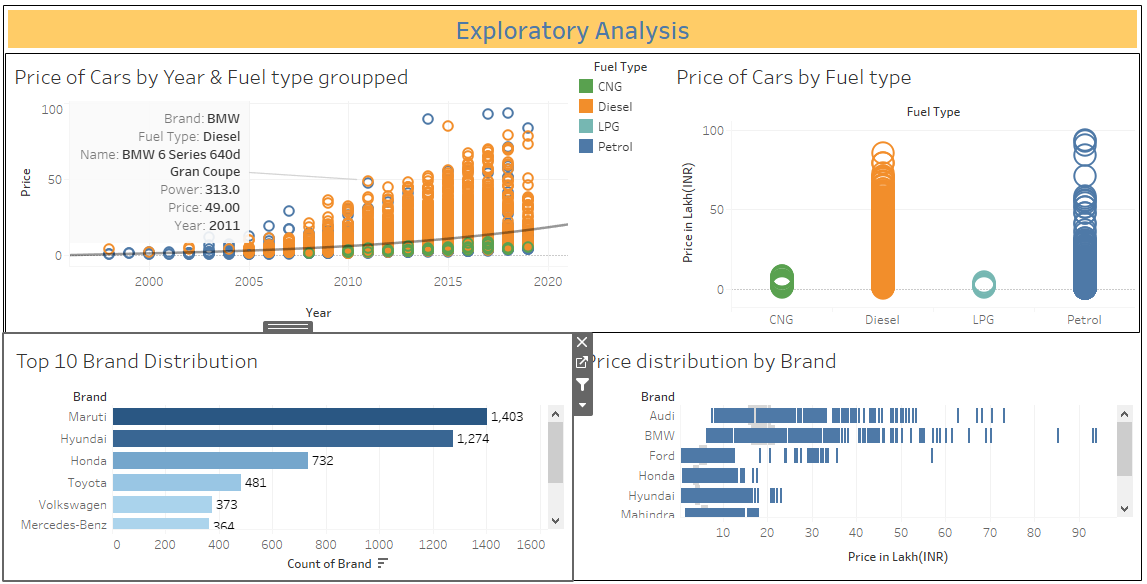

Layout of this report page (visuals, bound fields, positions):
{"tool":"tableau","page":{"name":"Exploratory Analysis","canvas":[1000,1000],"units":"permille","ordinal":2},"visuals":[{"type":"title","box":[5.4,10.5,989.1,53.4]},{"type":"worksheet","title":"Price_Year","mark":"Automatic","rows":["Price"],"cols":["Year"],"box":[6.6,66.2,492.8,490.6]},{"type":"legend","title":"Price_Year","param":"[federated.0vfh54c1truea212ukk8j18ut1hf].[none:Fuel_Type:nk]","box":[499.4,66.2,84.1,490.6]},{"type":"worksheet","title":"Price_Fuel","mark":"Shape","rows":["Price"],"cols":["Fuel_Type"],"box":[583.5,66.2,409.9,490.6]},{"type":"worksheet","title":"Brand_Top10","mark":"Bar","rows":["Brand"],"cols":["Brand"],"box":[5.4,559.1,494,430.4]},{"type":"worksheet","title":"Price_Brand","mark":"Automatic","rows":["Brand"],"cols":["Price"],"box":[499.4,559.1,495.2,430.4]}]}

Visuals, with their boxes on the dashboard's canvas, which has no fixed pixel size, in thousandths of its width and height (x1, y1, x2, y2). These are canvas units, not pixel positions in the 1147x584 screenshot, which may show the page scaled, cropped or inside an application window:
title: box(5, 10, 994, 64)
"Price_Year" worksheet: box(7, 66, 499, 557)
"Price_Year" legend: box(499, 66, 584, 557)
"Price_Fuel" worksheet (Shape marks): box(584, 66, 993, 557)
"Brand_Top10" worksheet (Bar marks): box(5, 559, 499, 990)
"Price_Brand" worksheet: box(499, 559, 995, 990)
